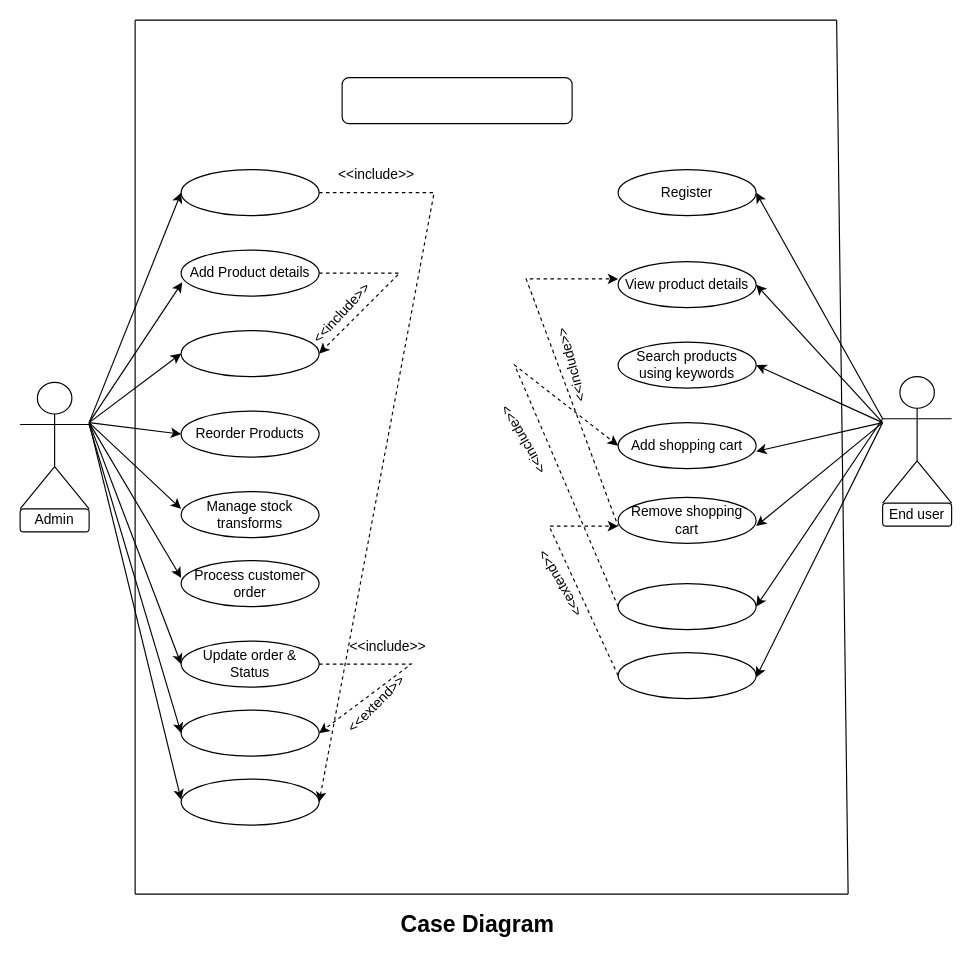
This 972x960 diagram has some shape labels left out. The centre of each missing label's shape, as x and y in pixels:
Assign access to users: point 249,801
Complete purchase process: point 686,606
Edit Product details: point 249,353
Generate Sales reports: point 249,732
Log in: point 249,192
Super Shop Management System: point 456,100
Track placed orders: point 686,675
